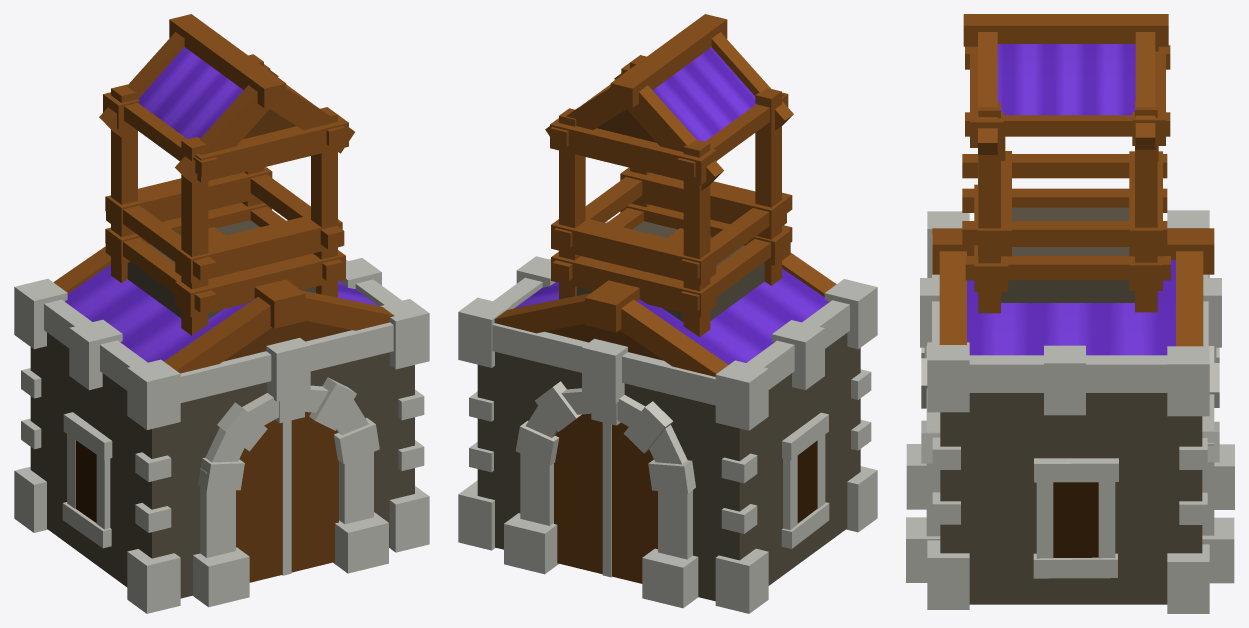
The model's file is firehouse.fbx.
3 views of the same model, side by side, from view 1: azimuth 30°, elevation 25°; view 2: azimuth 150°, elevation 25°; view 3: azimuth 270°, elevation 25° (orthographic). The views are drawn at different scales.
Parts seen in each view (by area): view 1: polySurface816; view 2: polySurface816; view 3: polySurface816.
Boxes of the visible parts, x1=… form: polySurface816: x1=14, y1=14, x2=429, y2=613; polySurface816: x1=458, y1=14, x2=877, y2=613; polySurface816: x1=906, y1=14, x2=1234, y2=613.
Bounding box in the file's own units: 111 × 174 × 99.96.
Materials: 1 (1 with a texture image).
